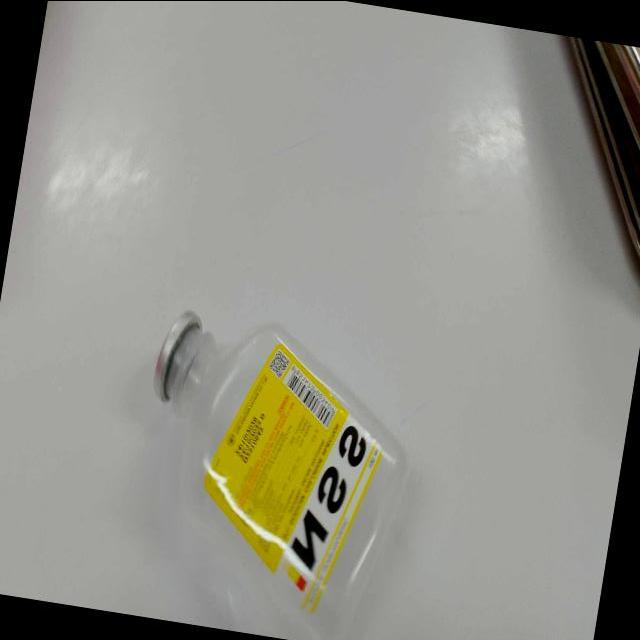Pathological: (1, 1, 637, 637)
Sharps: (150, 308, 405, 614)
